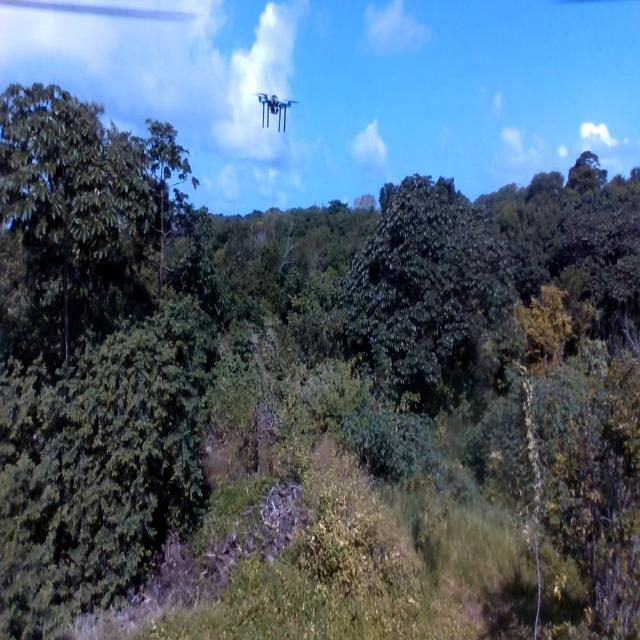-uav-: (244, 65, 303, 156)
